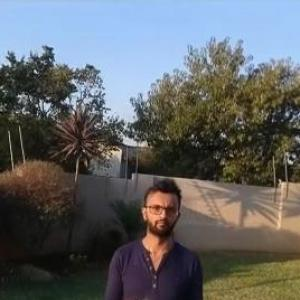follow: (98, 172, 212, 299)
